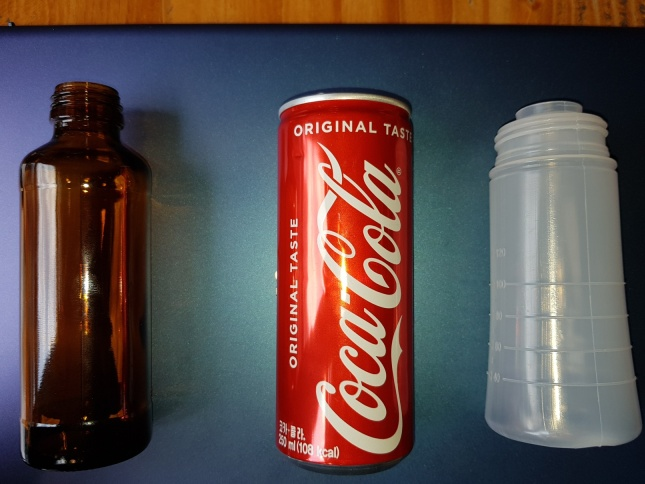Can: (270, 89, 423, 476)
Glass: (14, 76, 157, 471)
Plastic: (479, 96, 645, 455)
